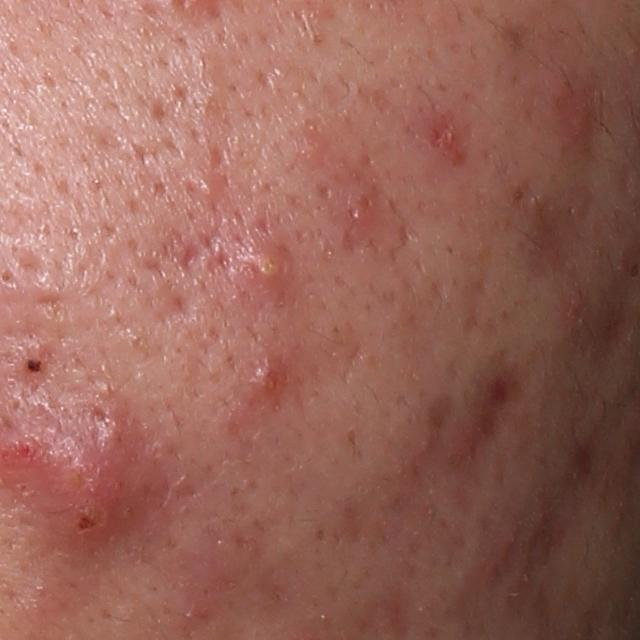atrophic_scar: (451, 351, 540, 510), (526, 424, 601, 598), (155, 204, 278, 281), (150, 281, 203, 324)
comedo: (1, 265, 20, 292)
papule: (328, 166, 393, 242), (238, 351, 296, 408), (563, 95, 602, 138), (192, 170, 226, 201)
pustule: (252, 237, 299, 286)
